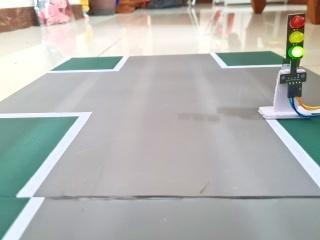green: (281, 10, 312, 66)
